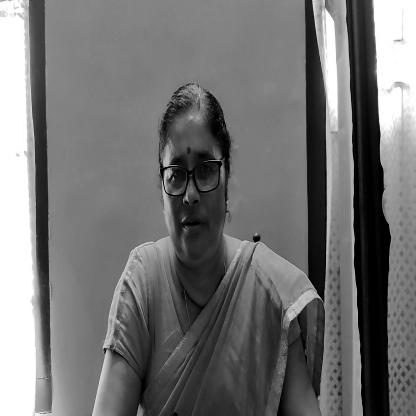Normal: (157, 85, 230, 267)
